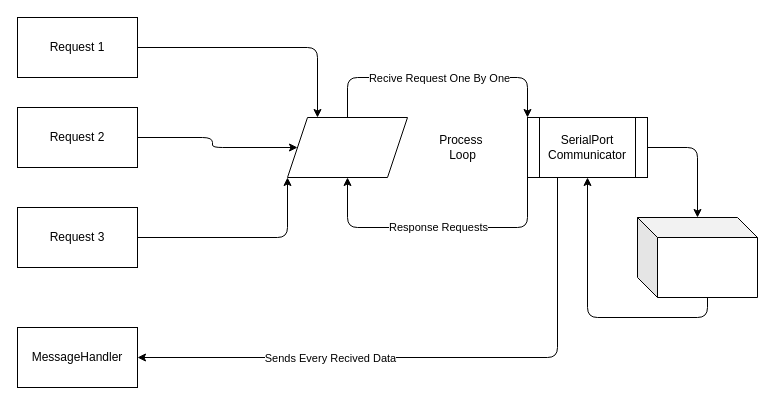
The diagram is 775 pixels wide and 405 high, and some of its shapes have lost their labels. The box of each missing label's shape, as (x1, y1, x2, y2) in pixels:
Device: (636, 216, 758, 298)
Queue: (286, 116, 408, 178)
